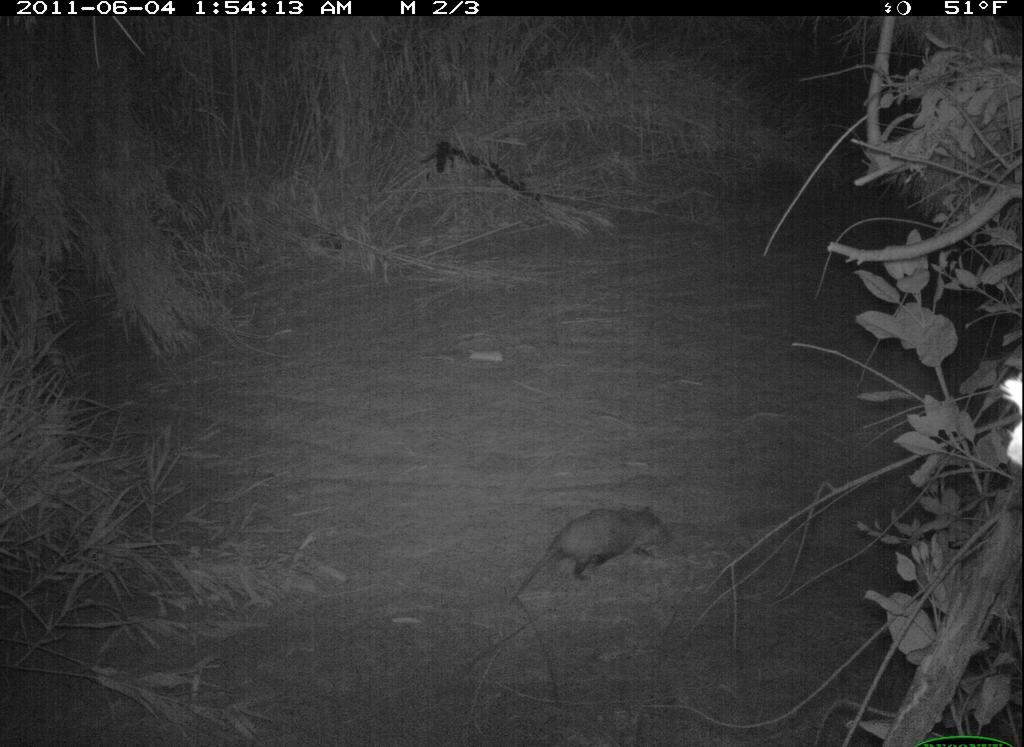opossum: (505, 486, 683, 617)
